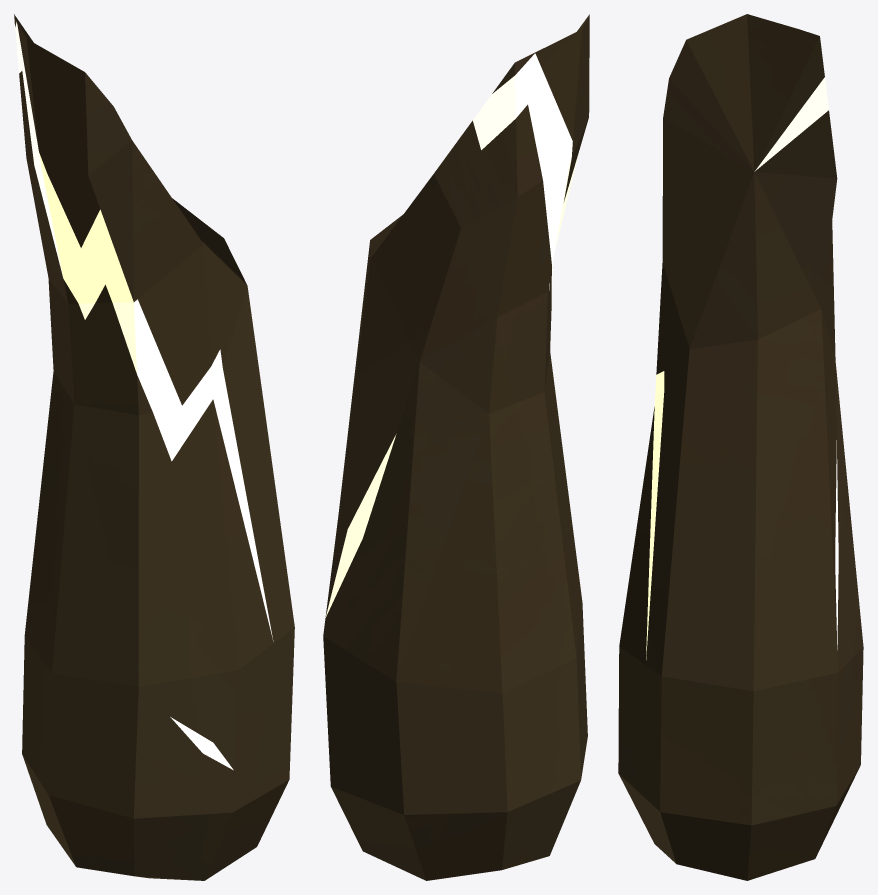
Rendered from SapplingLightningTree.fbx.
3 renders of one model, left to right at view 1: azimuth 30°, elevation 25°; view 2: azimuth 150°, elevation 25°; view 3: azimuth 270°, elevation 25°, orthographic. The views are drawn at different scales.
Visible parts, largest first — view 1: Tree; view 2: Tree; view 3: Tree.
Part boxes in pixels (<box>): Tree: <box>14,14,294,880</box>; Tree: <box>323,14,589,880</box>; Tree: <box>618,14,863,880</box>.
Bounding box in the file's own units: 92.59 × 312 × 86.66.
